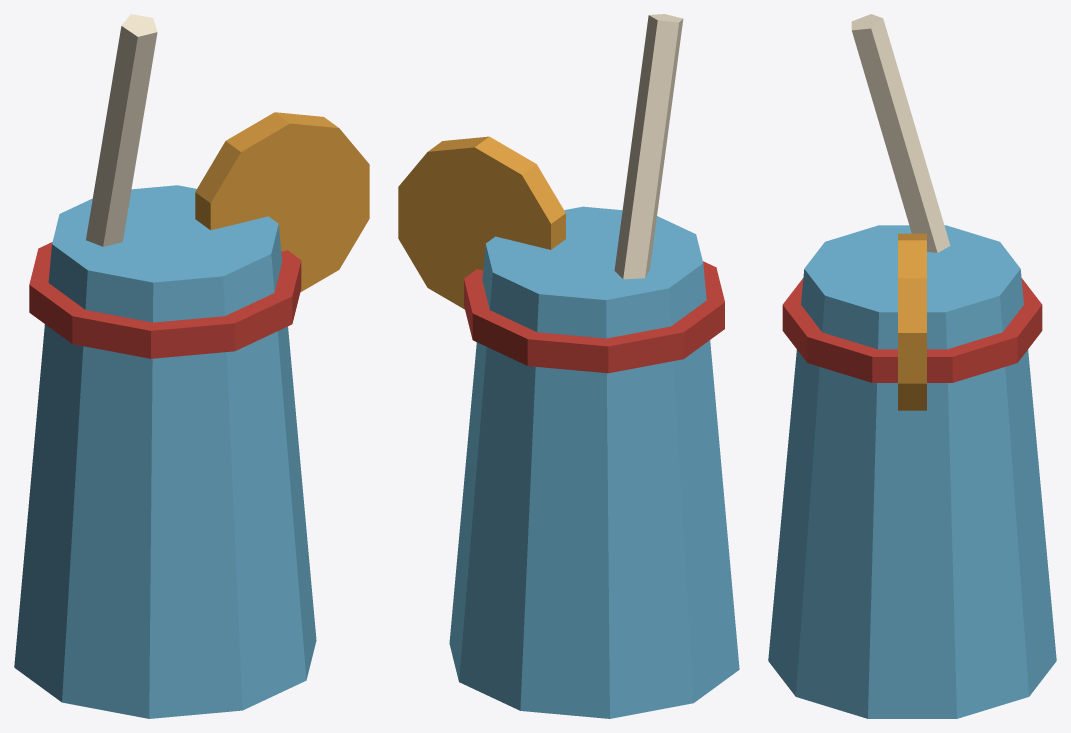
Rendered from PR_Drink_GunBatimiPuncu.fbx.
3 views of the same model, side by side, from view 1: azimuth 30°, elevation 25°; view 2: azimuth 150°, elevation 25°; view 3: azimuth 270°, elevation 25° (orthographic). The views are drawn at different scales.
Visible parts, largest first — view 1: PR_Drink_GunBatimiPuncu; view 2: PR_Drink_GunBatimiPuncu; view 3: PR_Drink_GunBatimiPuncu.
Part boxes in pixels (x1,y1,x2,y2): PR_Drink_GunBatimiPuncu: (14, 14, 369, 718); PR_Drink_GunBatimiPuncu: (398, 14, 739, 718); PR_Drink_GunBatimiPuncu: (768, 14, 1056, 718).
Bounding box in the file's own units: 0.0968 × 0.1896 × 0.08.
